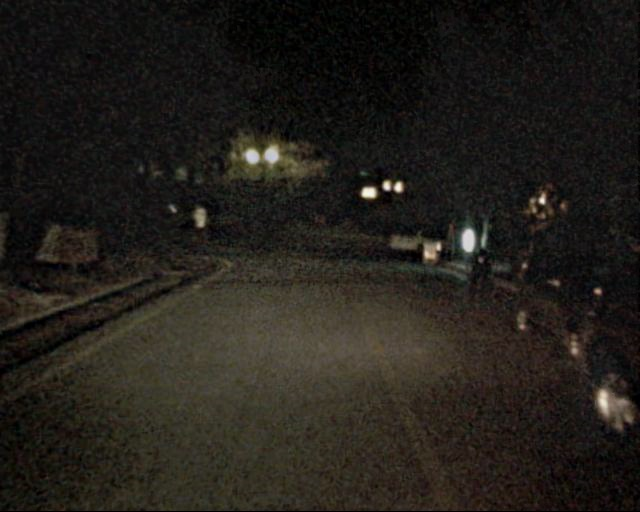person: (538, 227, 561, 283)
